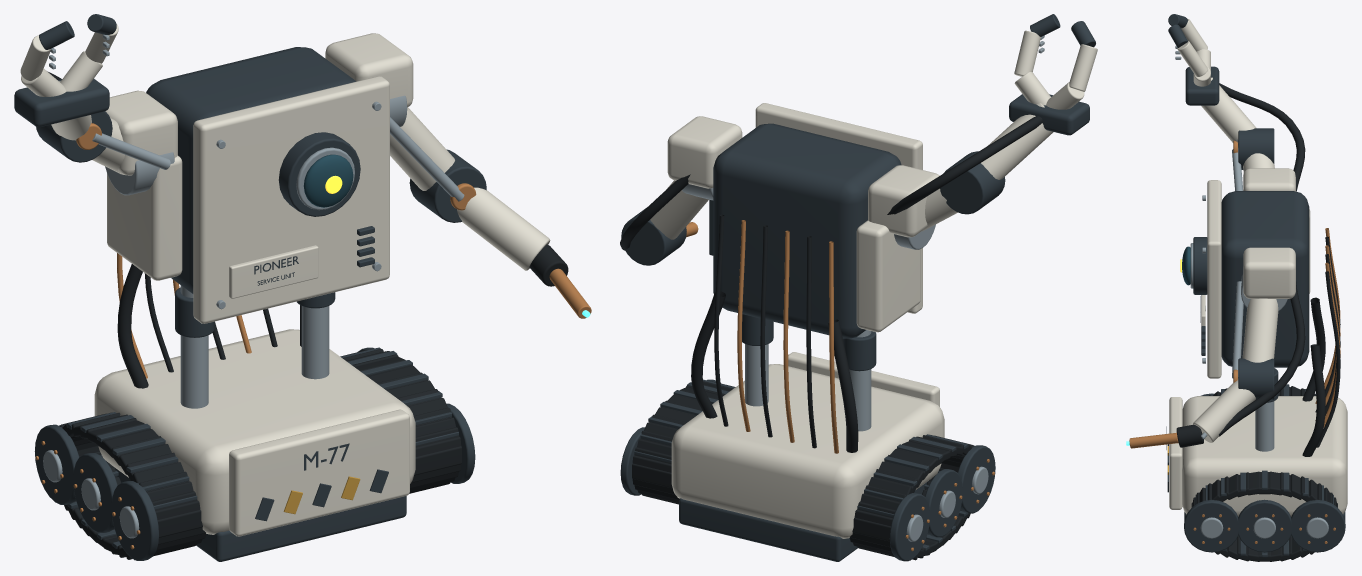
3 views of the same model, side by side, from view 1: azimuth 30°, elevation 25°; view 2: azimuth 150°, elevation 25°; view 3: azimuth 270°, elevation 25° (orthographic). The views are drawn at different scales.
Parts seen in each view (by area): view 1: M77_mesh, Elbow_-1_mesh, Elbow_1_mesh, Shoulder_1_mesh, Shoulder_-1_mesh, Wheel_-1_-0.22_mesh, Wheel_-1_0_mesh, Wheel_-1_0.22_mesh, Wheel_1_-0.22_mesh; view 2: M77_mesh, Elbow_-1_mesh, Shoulder_1_mesh, Shoulder_-1_mesh, Wheel_-1_0.22_mesh, Wheel_-1_0_mesh, Wheel_-1_-0.22_mesh, Elbow_1_mesh, Wheel_1_0.22_mesh; view 3: M77_mesh, Shoulder_1_mesh, Elbow_-1_mesh, Elbow_1_mesh, Shoulder_-1_mesh, Wheel_1_-0.22_mesh, Wheel_1_0.22_mesh, Wheel_1_0_mesh.
Part boxes in pixels (x1,y1,x2,y2): M77_mesh: (59,47,461,561); Elbow_-1_mesh: (14,14,118,162); Elbow_1_mesh: (409,149,591,318); Shoulder_1_mesh: (325,33,464,201); Shoulder_-1_mesh: (47,71,177,195); Wheel_-1_-0.22_mesh: (112,481,158,560); Wheel_-1_0_mesh: (73,453,117,532); Wheel_-1_0.22_mesh: (34,424,79,504); Wheel_1_-0.22_mesh: (446,403,475,483); M77_mesh: (632,103,974,561); Elbow_-1_mesh: (940,14,1097,214); Shoulder_1_mesh: (620,116,742,250); Shoulder_-1_mesh: (868,116,1042,249); Wheel_-1_0.22_mesh: (889,493,929,561); Wheel_-1_0_mesh: (925,469,962,537); Wheel_-1_-0.22_mesh: (957,445,995,513); Elbow_1_mesh: (621,207,698,265); Wheel_1_0.22_mesh: (620,427,644,495); M77_mesh: (1166,180,1347,561); Shoulder_1_mesh: (1219,247,1305,436); Elbow_-1_mesh: (1168,14,1274,169); Elbow_1_mesh: (1126,358,1274,448); Shoulder_-1_mesh: (1219,83,1305,191); Wheel_1_-0.22_mesh: (1184,500,1238,552); Wheel_1_0.22_mesh: (1291,499,1345,552); Wheel_1_0_mesh: (1238,499,1291,552).
Size of the model in its own units: 1.77 by 1.89 by 0.9215.
